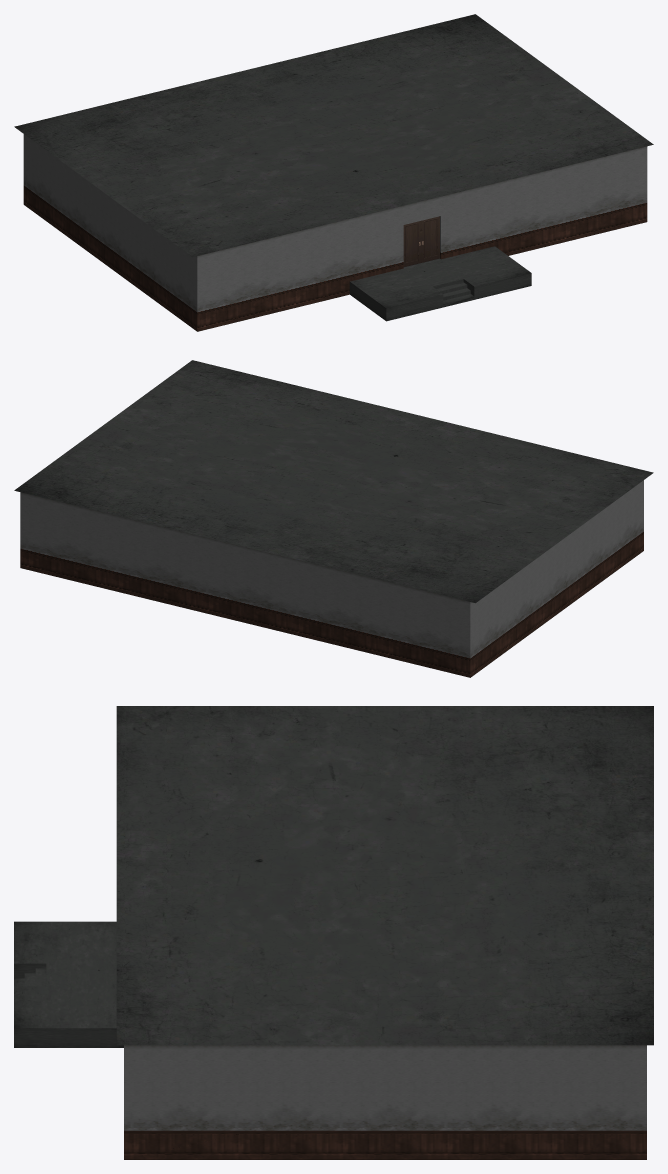
Rendered from Haunted House.glb.
3 views of the same model, one above another, from view 1: azimuth 30°, elevation 25°; view 2: azimuth 150°, elevation 25°; view 3: azimuth 270°, elevation 25° (orthographic). The views are drawn at different scales.
Parts seen in each view (by area): view 1: House; view 2: House; view 3: House.
Boxes of the visible parts, x1,y1,x2,y2 form: House: [14, 14, 653, 331]; House: [14, 360, 653, 677]; House: [14, 706, 653, 1159].
Size of the model in its own units: 47.13 by 7.62 by 37.57.
14 materials, 14 textured.
